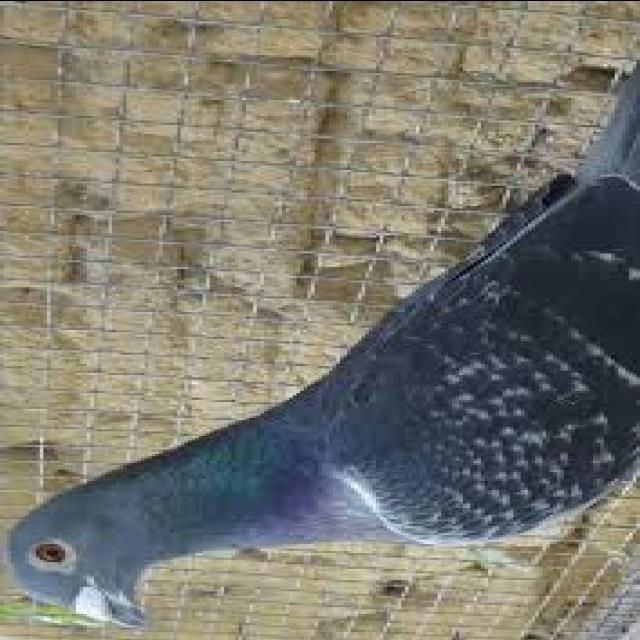pigeon: (0, 115, 640, 632)
